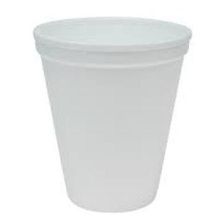paper_cup: (28, 13, 195, 218)
